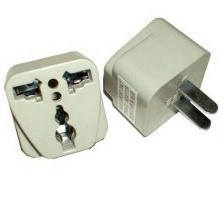three_eye_plug: (99, 14, 222, 143), (2, 46, 110, 162)
